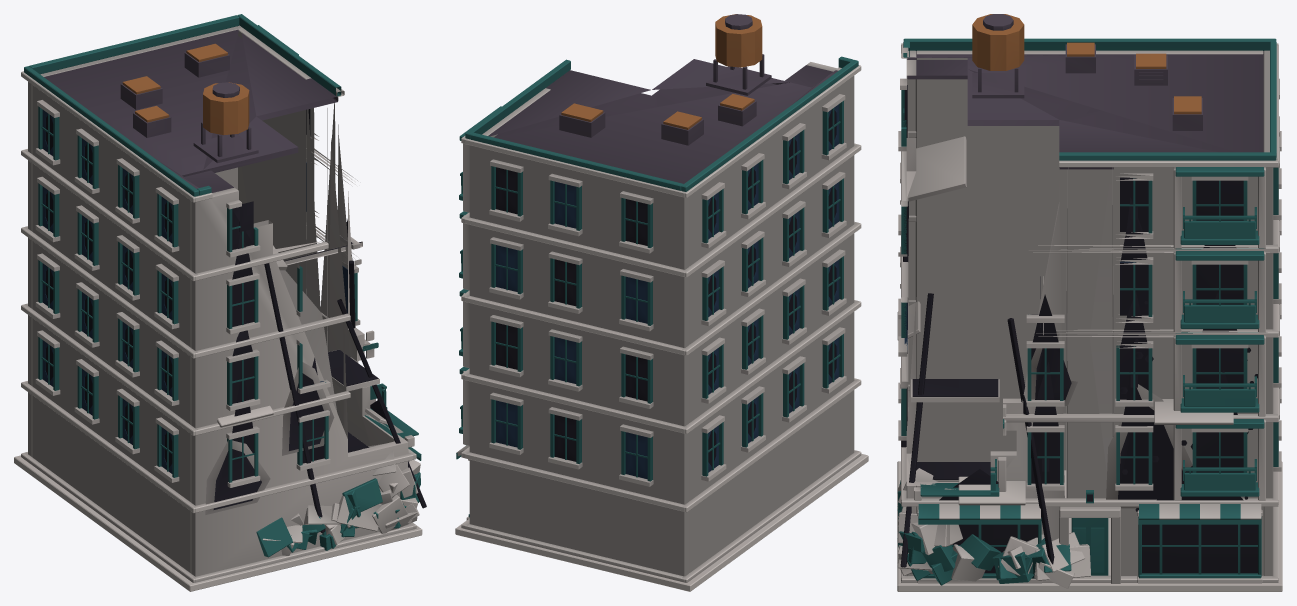
Rendered from bld.apartment-block-b.w6.glb.
The picture shows the model from 3 angles, left to right: view 1: azimuth 30°, elevation 25°; view 2: azimuth 150°, elevation 25°; view 3: azimuth 270°, elevation 25°; orthographic projection. The views are drawn at different scales.
Visible parts, largest first — view 1: body, roof; view 2: body, roof; view 3: body, roof, door_front.
Part boxes in pixels (x1,y1,x2,y2): body: [14, 14, 426, 591]; roof: [44, 29, 338, 192]; body: [455, 56, 868, 591]; roof: [488, 14, 837, 183]; body: [897, 38, 1282, 591]; roof: [907, 14, 1263, 169]; door_front: [1071, 518, 1108, 575].
Size of the model in its own units: 10 by 17.76 by 12.6.
